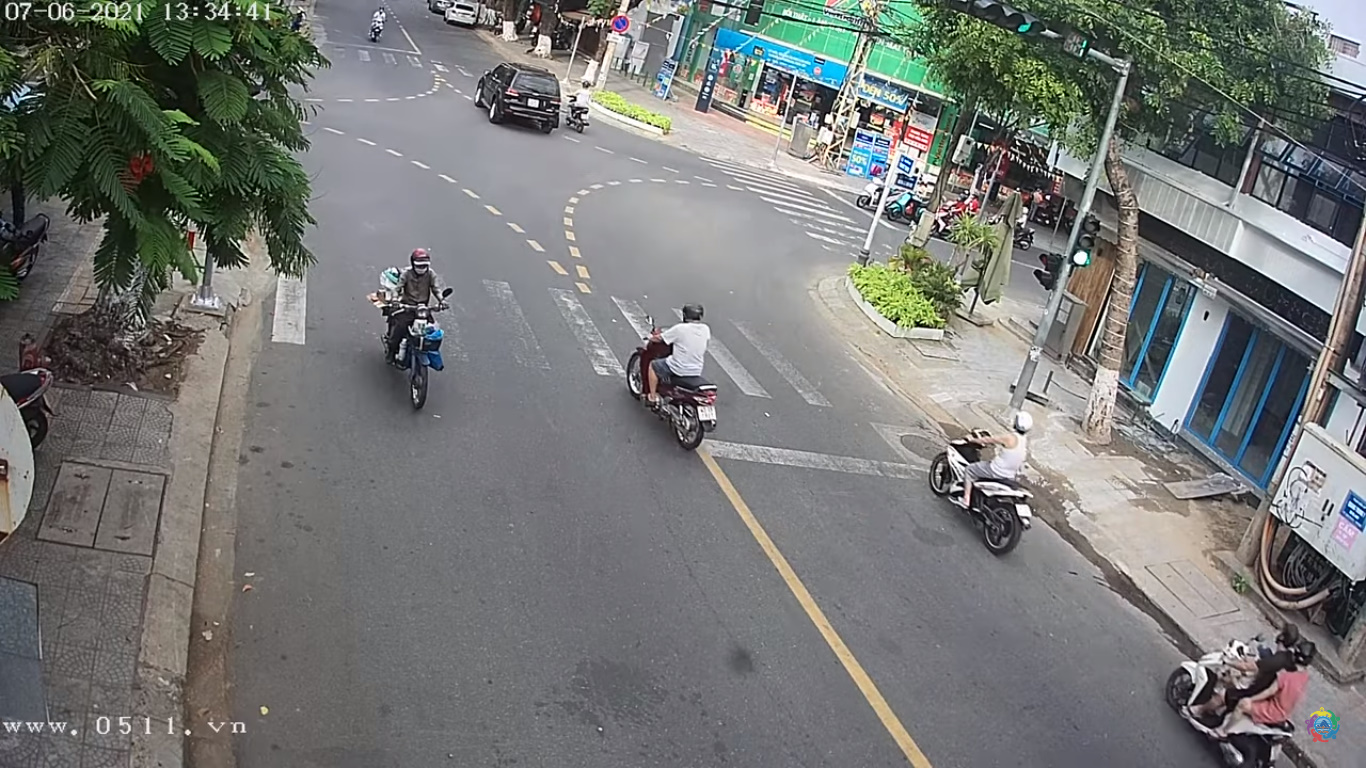motorbike: (380, 262, 460, 404)
